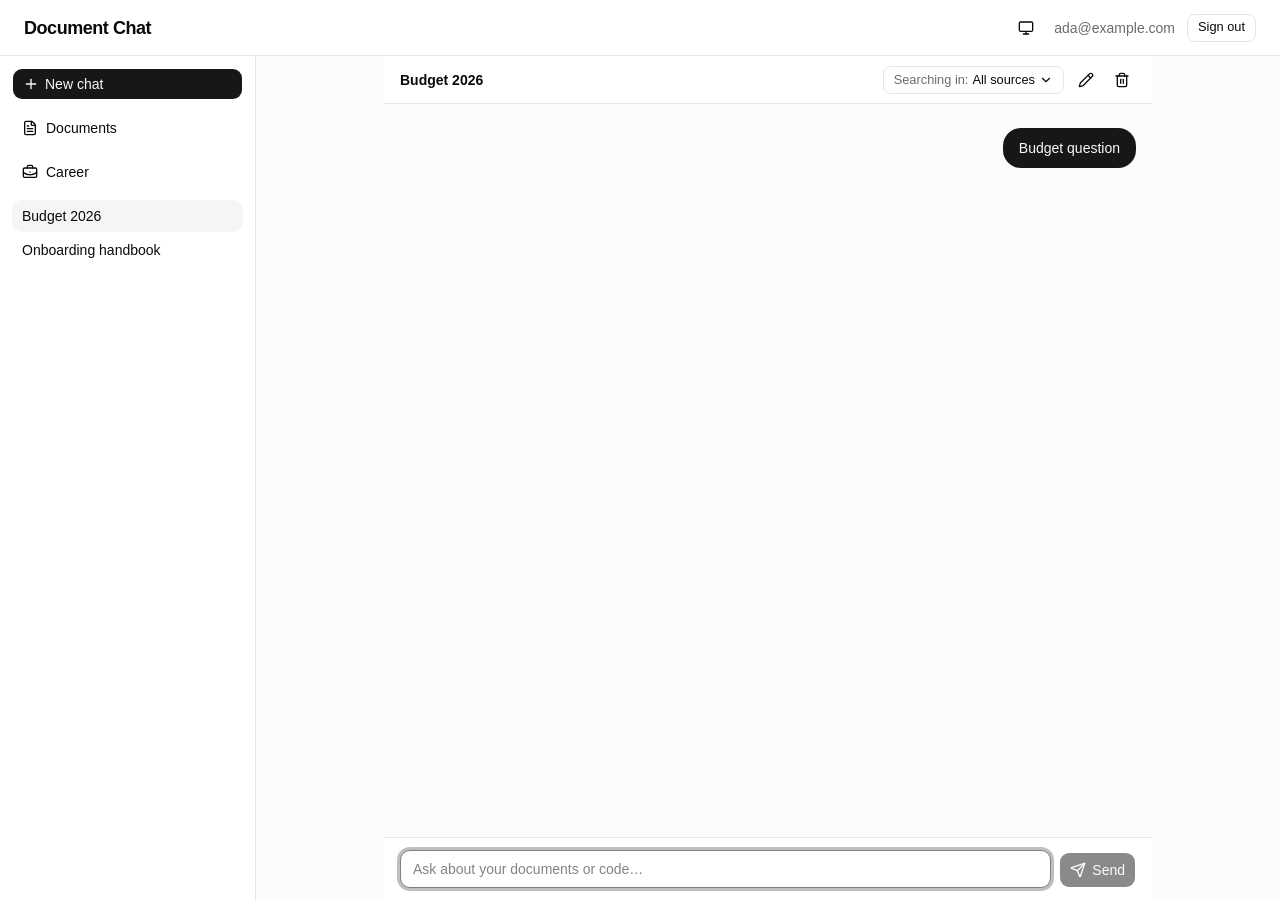
opening a saved conversation › shows the conversation that was clicked, not the previous one
Expected: the text "Budget question" is shown, [1019,138,1120,158]
Click the link "Onboarding handbook". click: click(91, 250)
box: [22,242,161,258]
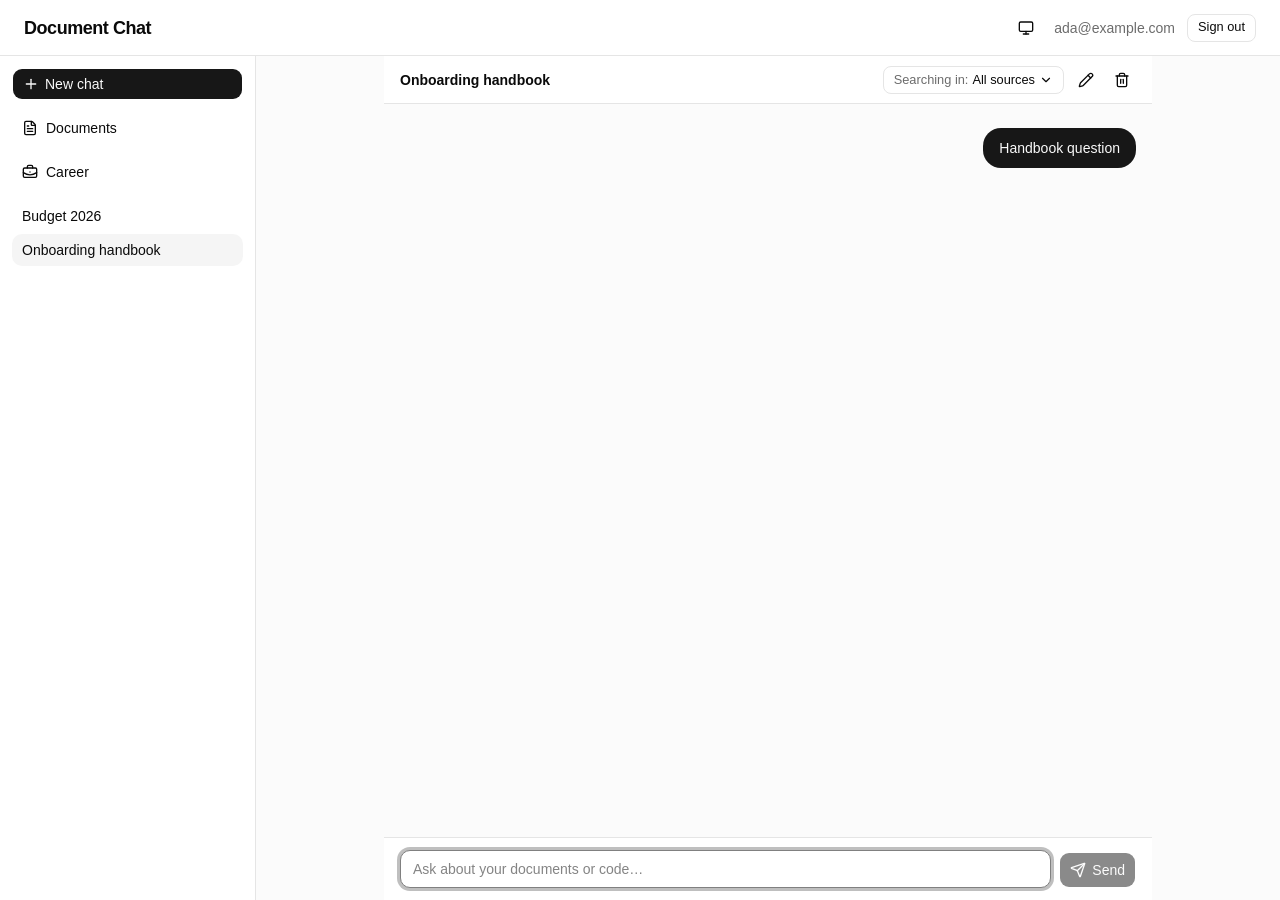
Expected: the text "Handbook question" is shown, [999,138,1120,158]
Expected: the text "Budget question" is gone
